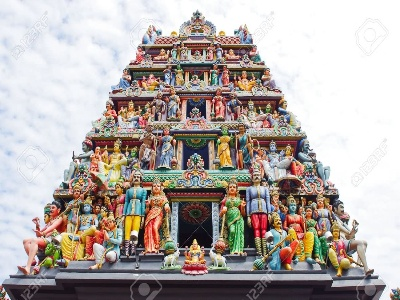gopura: (29, 28, 372, 267)
